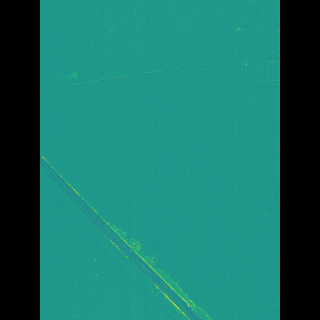Loch: (68, 148, 202, 319), (89, 72, 249, 117), (92, 54, 250, 92), (99, 17, 250, 49)
